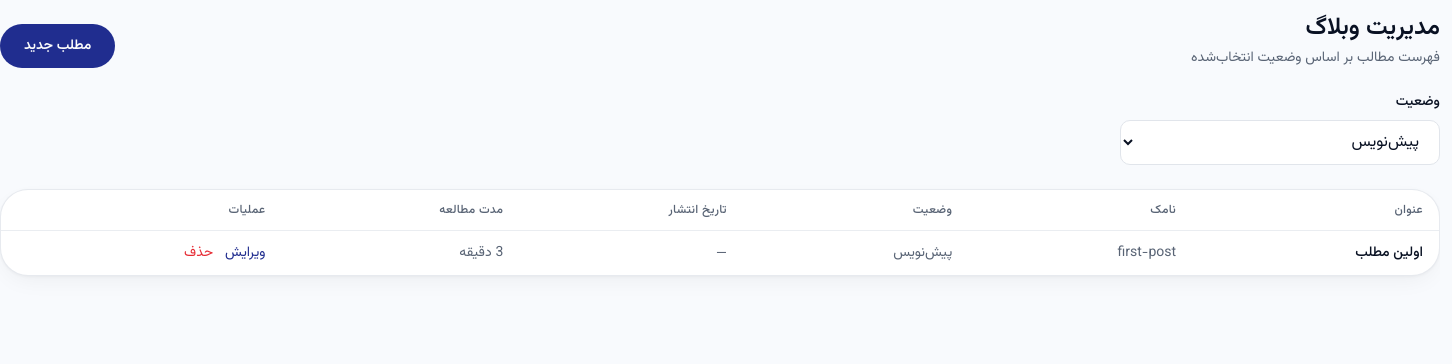
Test: BlogListView › row workflow actions › surfaces a 404 from delete as an already-removed message
Expected: the text "اولین مطلب" is shown, 1192,231 -> 1439,275
Click the button "حذف" at point(199, 253), box 184,243 -> 213,263
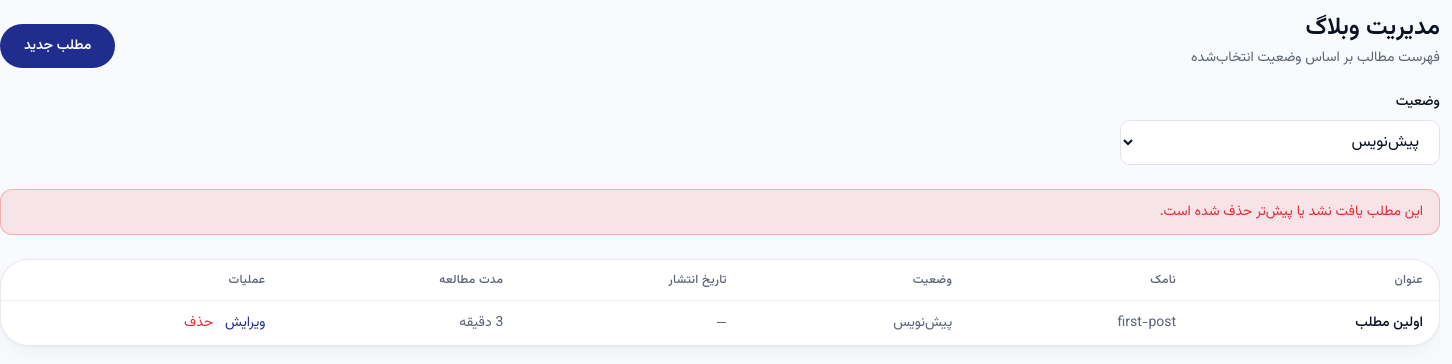
Result: the text "این مطلب یافت نشد یا پیش‌تر حذف شده است." is shown at 0,189 -> 1440,235
